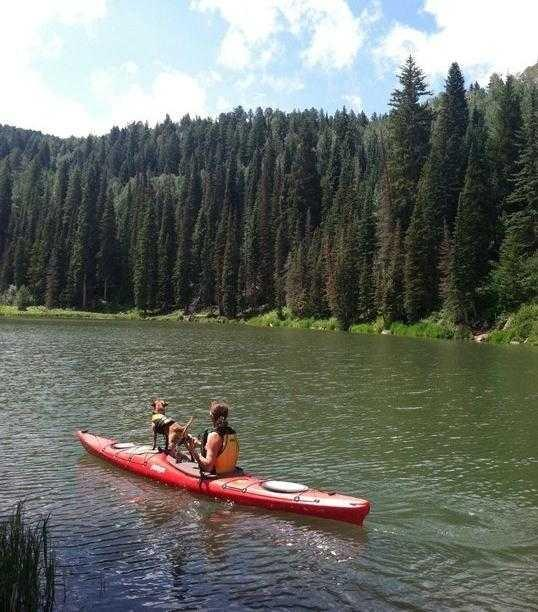kayak: (73, 427, 371, 528)
